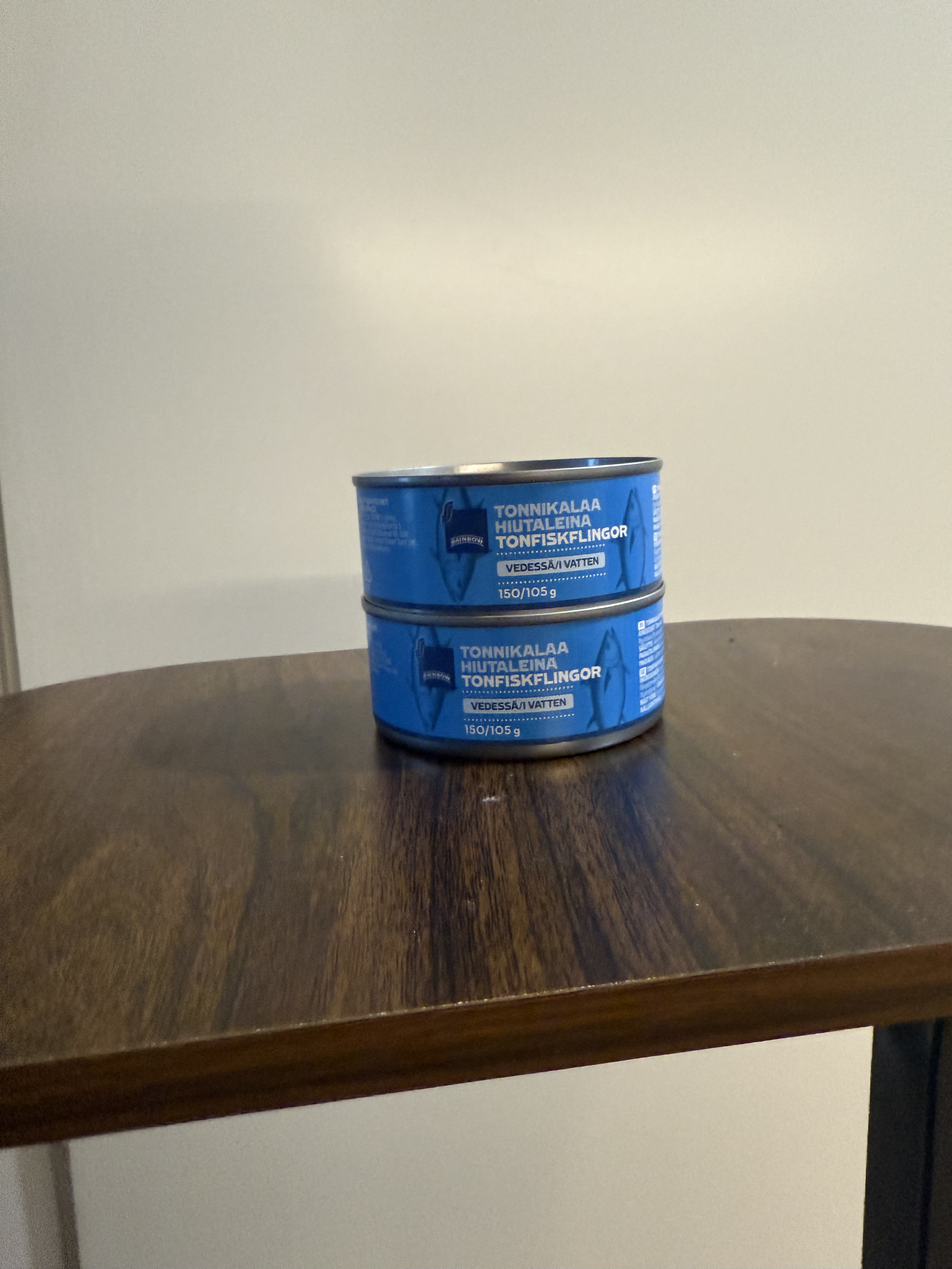Konservburk: (353, 466, 662, 603), (361, 617, 667, 751)
